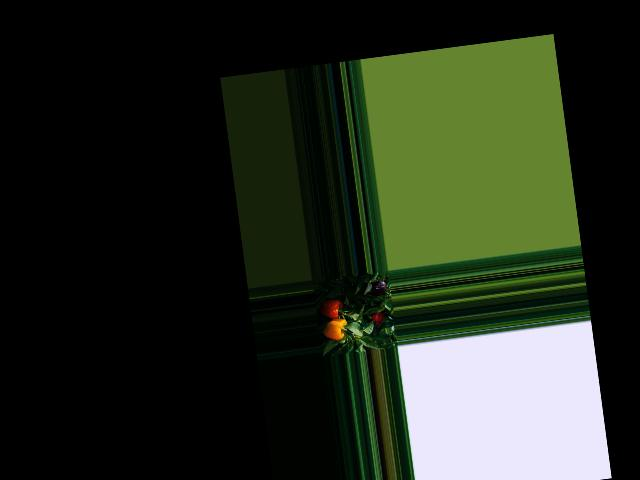bell_pepper: (321, 312, 349, 341)
